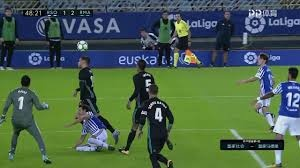falling: (60, 99, 122, 153)
